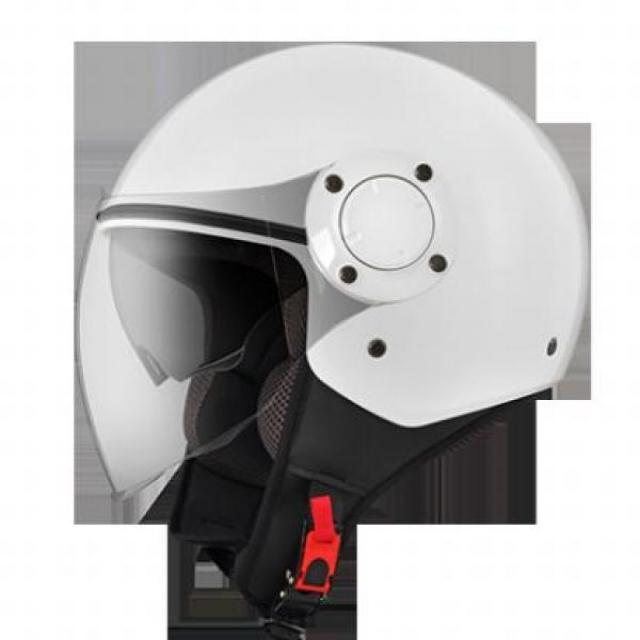Helmet: (76, 42, 557, 496)
